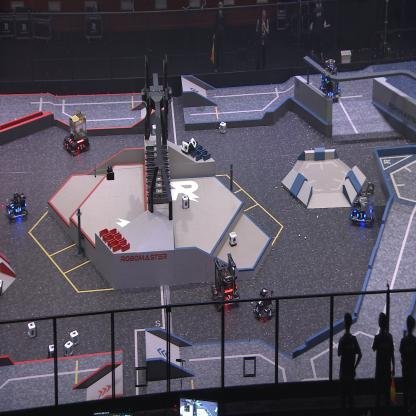car: (210, 252, 242, 311), (62, 108, 90, 158), (349, 181, 377, 227), (318, 59, 342, 103), (252, 288, 276, 322), (5, 190, 28, 221)
